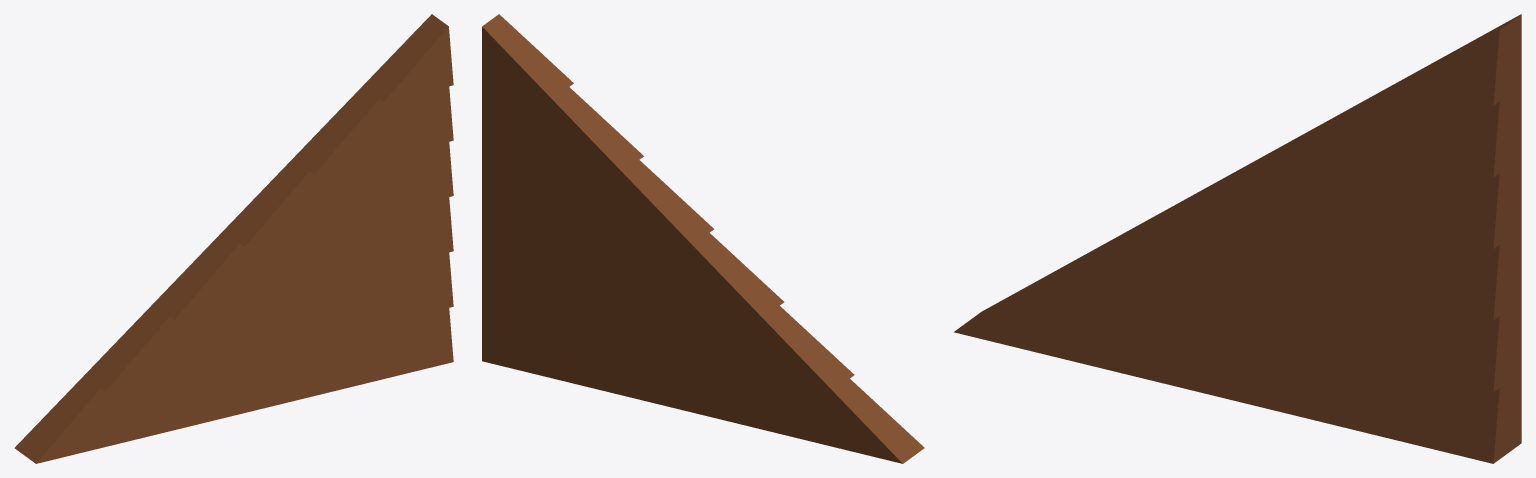
Rendered from cabinSide.fbx.
3 views of the same model, side by side, from view 1: azimuth 30°, elevation 25°; view 2: azimuth 150°, elevation 25°; view 3: azimuth 330°, elevation 25° (orthographic). The views are drawn at different scales.
Visible parts, largest first — view 1: cabinSide; view 2: cabinSide; view 3: cabinSide.
Boxes of the visible parts, box(x1,y1,x2,y2) form: cabinSide: box(14, 14, 453, 463); cabinSide: box(482, 14, 924, 463); cabinSide: box(954, 14, 1521, 463).
Bounding box in the file's own units: 10 × 7.6 × 0.902.
